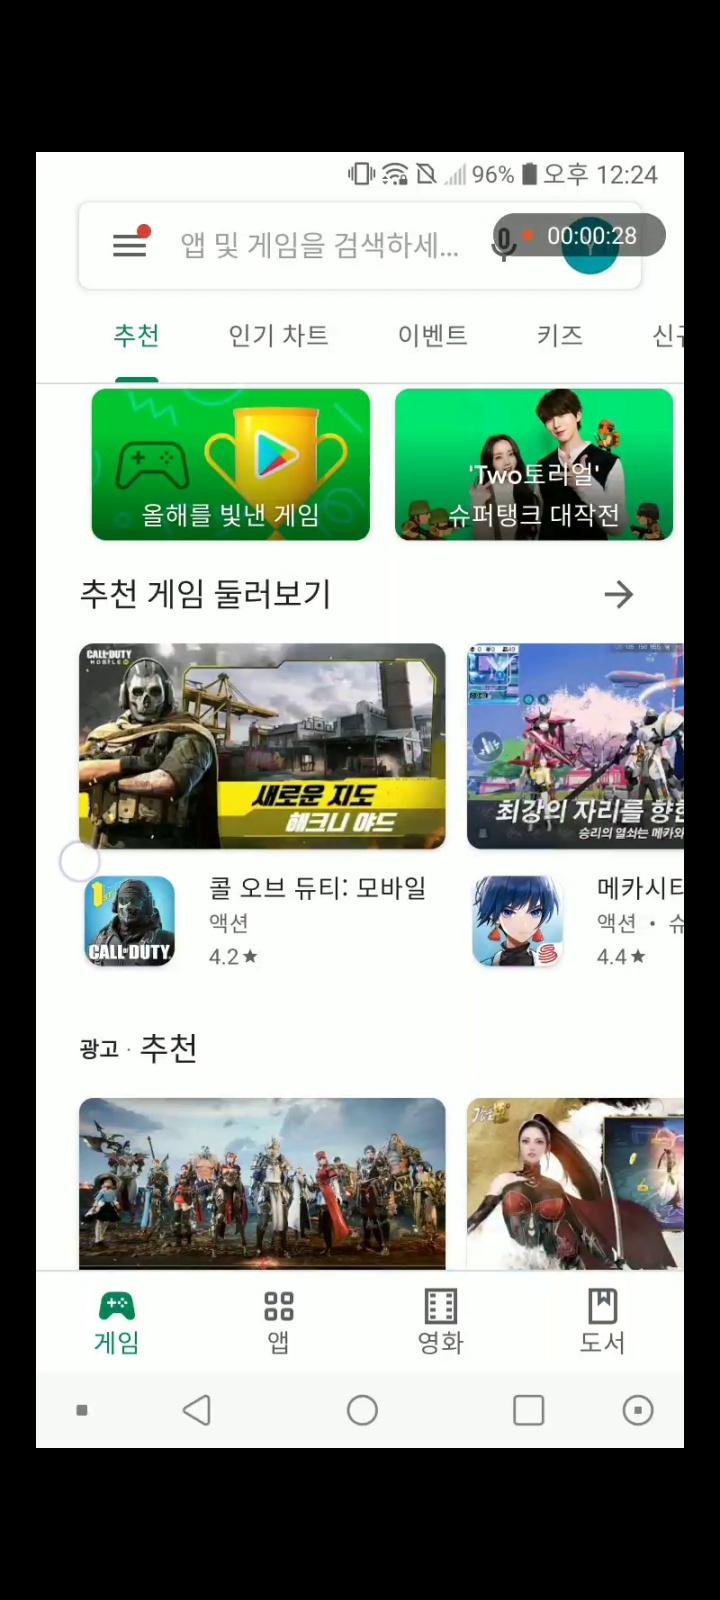Cursor: (58, 840, 103, 885)
